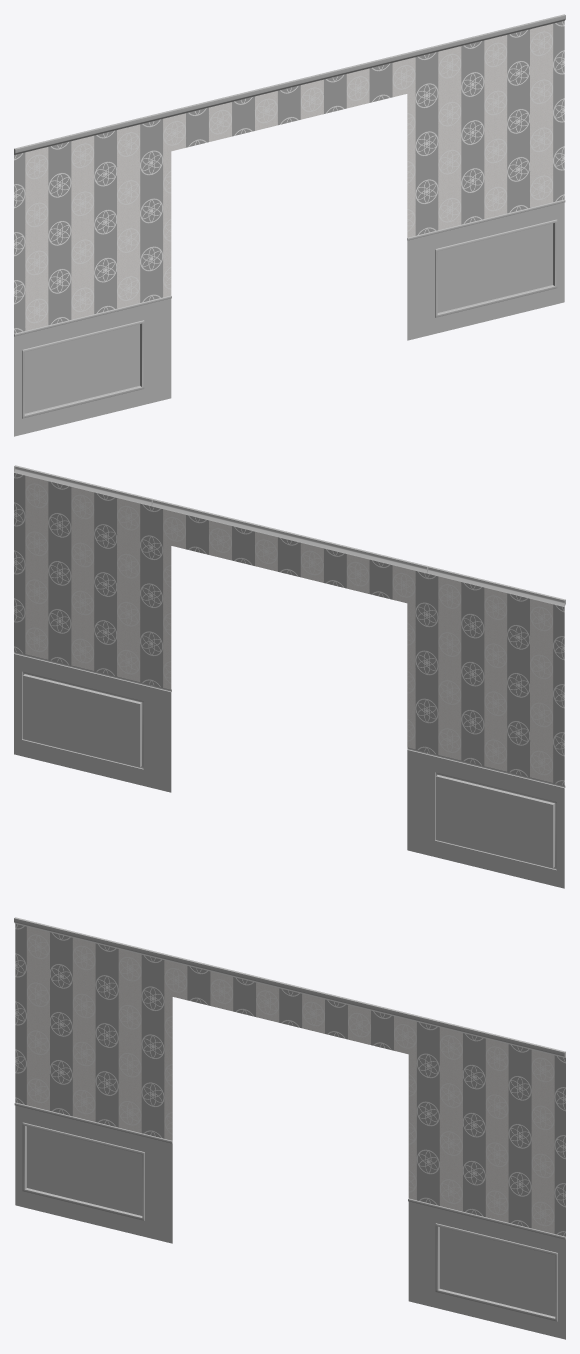
The model's file is WallNiche03_700Frame300x300cm.FBX.
The picture shows the model from 3 angles, top to bottom: view 1: azimuth 30°, elevation 25°; view 2: azimuth 150°, elevation 25°; view 3: azimuth 330°, elevation 25°; orthographic projection.
Visible parts, largest first — view 1: WallNiche03_700Frame300x300cm; view 2: WallNiche03_700Frame300x300cm; view 3: WallNiche03_700Frame300x300cm.
Part boxes in pixels (x1,y1,x2,y2): WallNiche03_700Frame300x300cm: (14, 14, 565, 436); WallNiche03_700Frame300x300cm: (14, 465, 565, 888); WallNiche03_700Frame300x300cm: (14, 917, 565, 1339).
Size of the model in its own units: 7000 by 3500 by 60.
